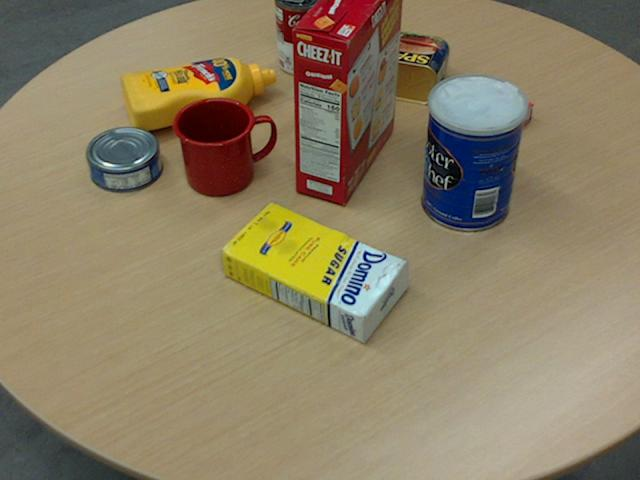cracker_box: (291, 0, 402, 203)
gelatin_box: (442, 79, 532, 146)
large_marker: (302, 22, 317, 111)
master_chef_can: (420, 74, 526, 232)
mug: (171, 96, 274, 195)
mustard_bottle: (120, 56, 275, 130)
potted_meat_can: (360, 30, 448, 104)
sugar_box: (217, 201, 408, 343)
tomato_soup_can: (275, 0, 325, 73)
tuna_fish_can: (85, 125, 161, 190)
